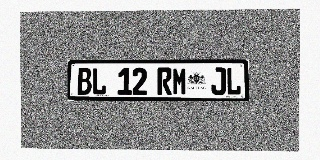1: (118, 68, 132, 95)
2: (132, 68, 147, 95)
B: (77, 68, 91, 95)
J: (211, 67, 226, 95)
L: (226, 67, 241, 95), (92, 68, 106, 95)
M: (172, 67, 187, 95)
R: (157, 68, 172, 95)
